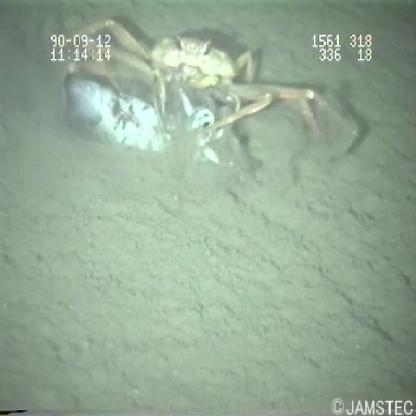Bio: (50, 16, 369, 171)
